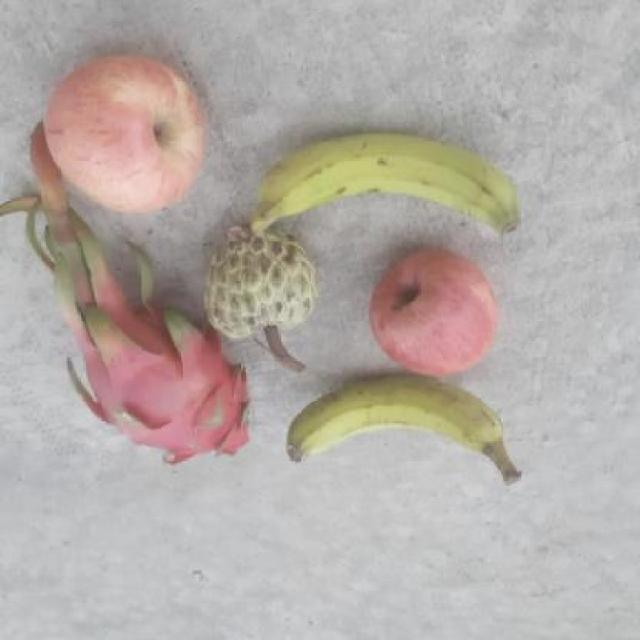apple: (40, 53, 212, 213), (367, 240, 502, 378)
banana: (233, 131, 519, 240), (286, 375, 522, 483)
dragon fruit: (66, 287, 256, 471)
sugar apple: (202, 226, 326, 340)
